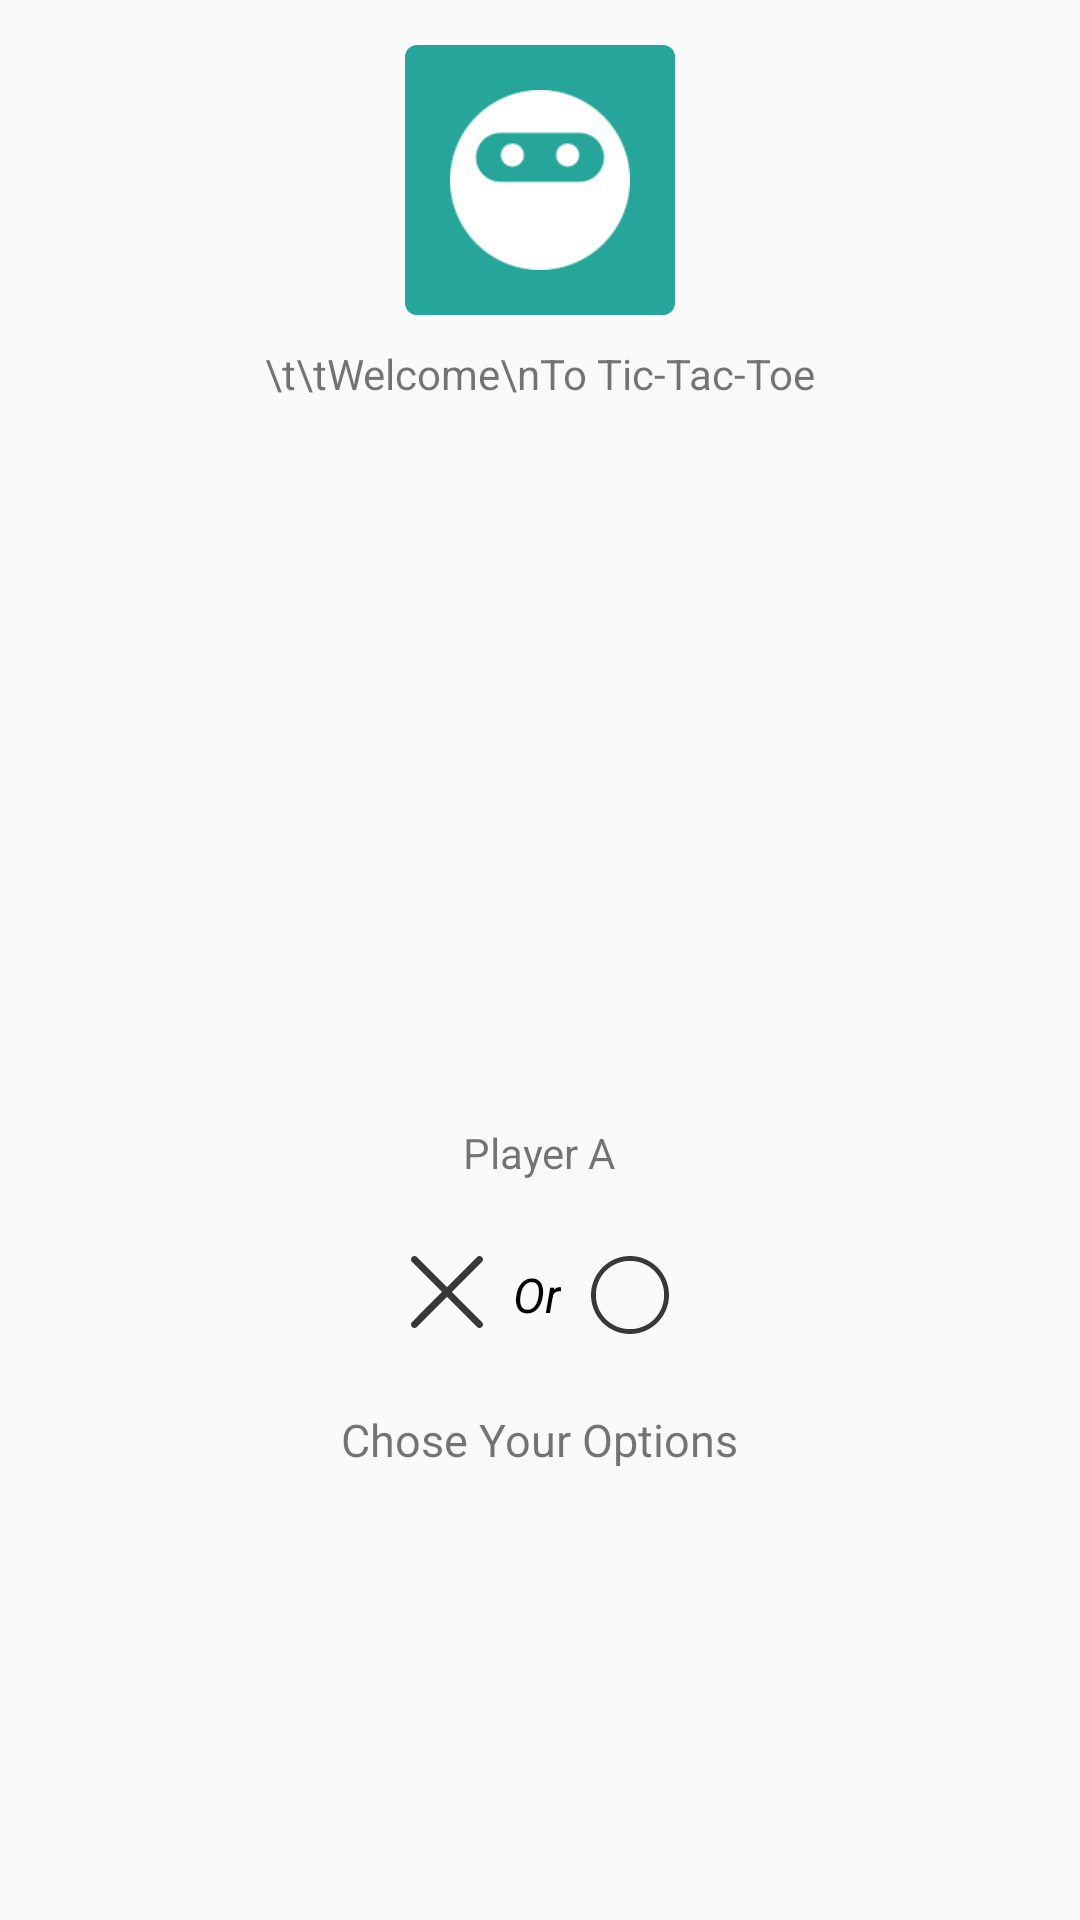

Icons on this 1080 × 1920 Android screen, each with its box as box(x1, y1, x2, y2):
circle: box(591, 1256, 669, 1334)
cross: box(411, 1256, 483, 1328)
ninja: box(405, 45, 675, 315)
